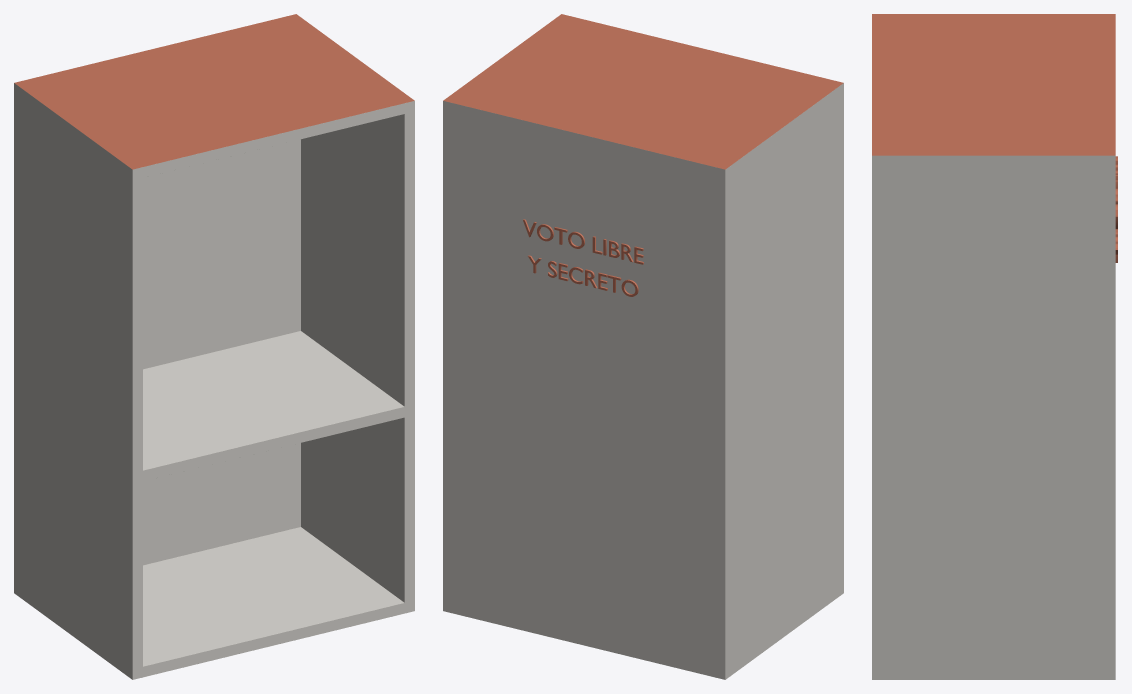
File: Mampara_Accesible.fbx
3 renders of one model, left to right at view 1: azimuth 30°, elevation 25°; view 2: azimuth 150°, elevation 25°; view 3: azimuth 270°, elevation 25°, orthographic. The views are drawn at different scales.
Parts seen in each view (by area): view 1: Mampara_Accesible; view 2: Mampara_Accesible; view 3: Mampara_Accesible.
Boxes of the visible parts, x1,y1,x2,y2 form: Mampara_Accesible: (14,14,414,679); Mampara_Accesible: (443,14,843,679); Mampara_Accesible: (872,14,1117,679).
Size of the model in its own units: 1.1 by 1.9 by 0.807.
